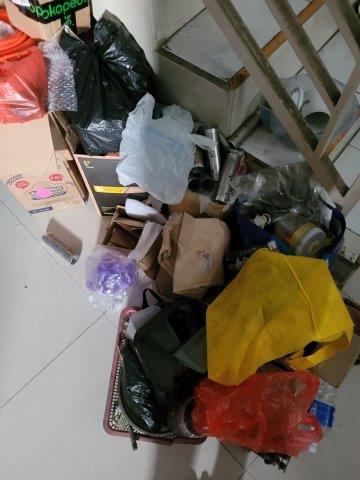botolplastik: (310, 385, 335, 456)
kardus: (1, 116, 96, 208), (10, 1, 93, 41)
plastik: (199, 378, 320, 458), (67, 27, 166, 117), (114, 96, 198, 195), (82, 248, 142, 309), (1, 50, 50, 117)
